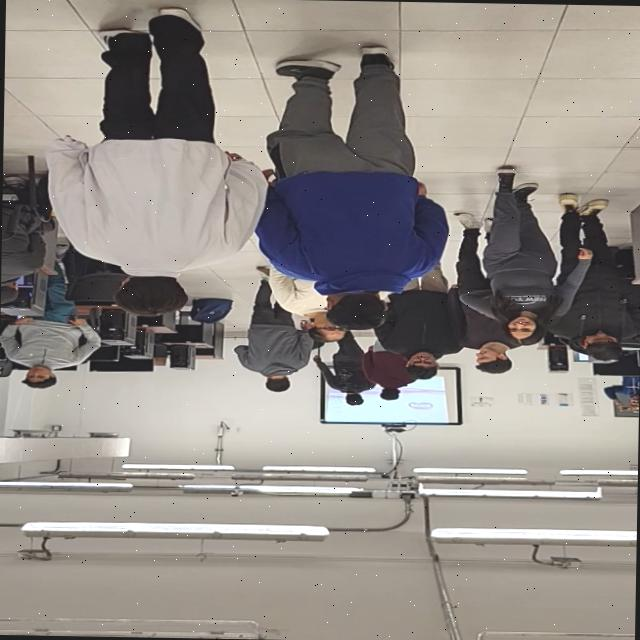Persona: (261, 36, 455, 334), (76, 2, 253, 316), (460, 164, 580, 346), (555, 192, 640, 365), (452, 205, 521, 386), (235, 265, 307, 394), (4, 276, 79, 392), (388, 277, 452, 386), (324, 339, 371, 409)
